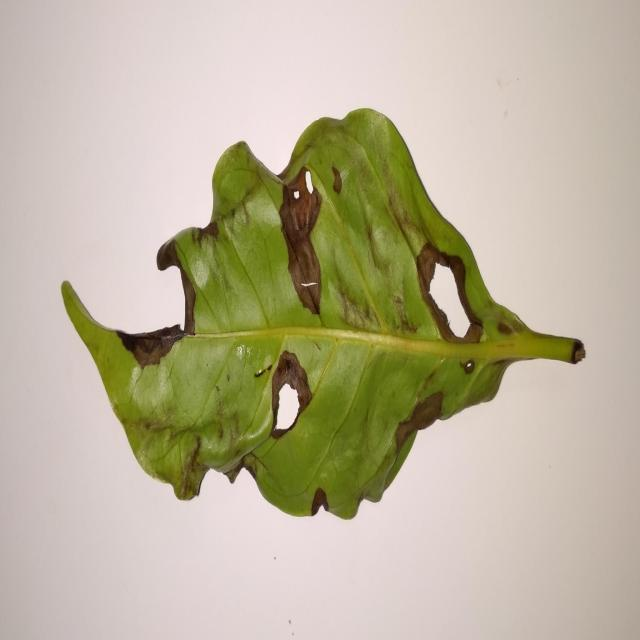Enfermedad-Antracnosis: (60, 108, 588, 523)
